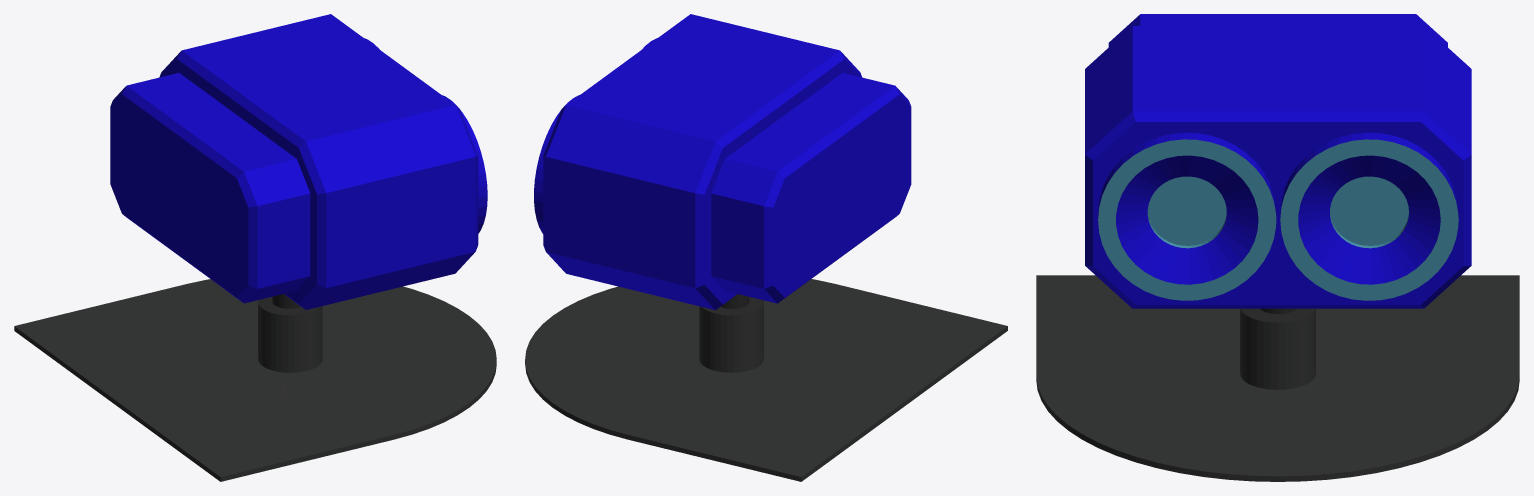
Rendered from mobileranger_fixed.dae.
3 renders of one model, left to right at view 1: azimuth 30°, elevation 25°; view 2: azimuth 150°, elevation 25°; view 3: azimuth 270°, elevation 25°, orthographic. The views are drawn at different scales.
Visible parts, largest first — view 1: mobileranger_rugged; view 2: mobileranger_rugged; view 3: mobileranger_rugged.
Boxes of the visible parts, bbox=[...] form: mobileranger_rugged: bbox=[14, 14, 496, 481]; mobileranger_rugged: bbox=[525, 14, 1007, 481]; mobileranger_rugged: bbox=[1036, 14, 1519, 481].
Size of the model in its own units: 0.1525 by 0.155 by 0.1158.
